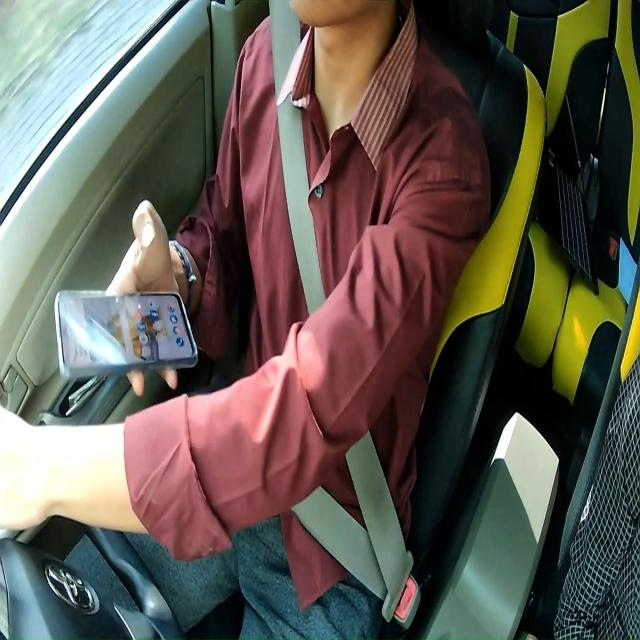phone: (54, 286, 198, 378)
